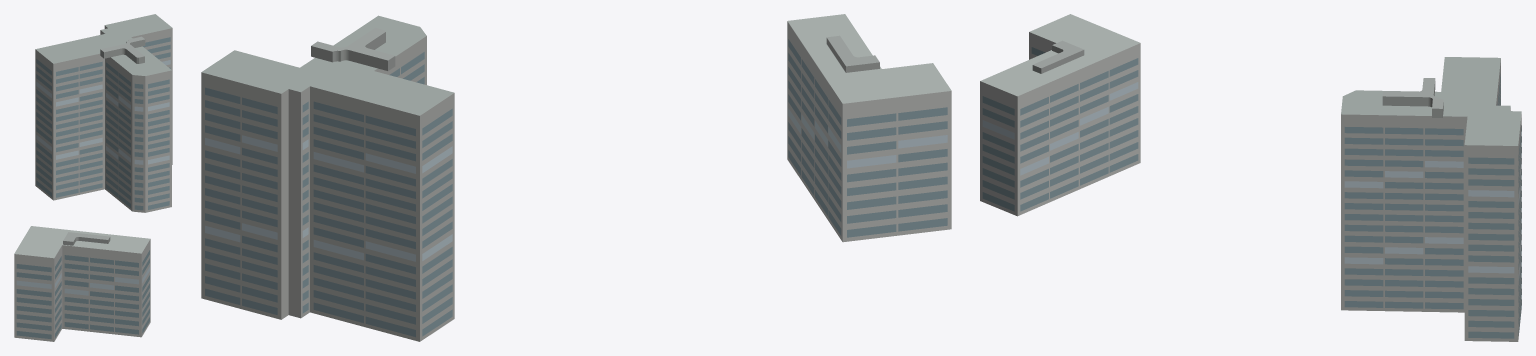
File: apt-a12076601.glb
3 views of the same model, side by side, from view 1: azimuth 30°, elevation 25°; view 2: azimuth 150°, elevation 25°; view 3: azimuth 270°, elevation 25° (orthographic). The views are drawn at different scales.
Visible parts, largest first — view 1: apt-a12076601; view 2: apt-a12076601; view 3: apt-a12076601.
Boxes of the visible parts, bbox=[...] form: apt-a12076601: bbox=[14, 14, 172, 341]; apt-a12076601: bbox=[201, 14, 951, 341]; apt-a12076601: bbox=[980, 14, 1521, 341].
Size of the model in its own units: 107 by 49 by 117.
